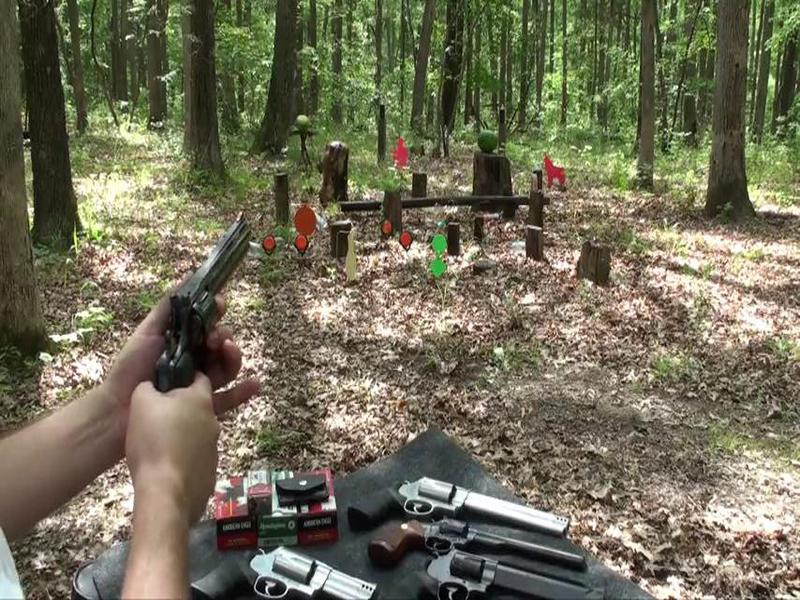Revolver: (137, 209, 259, 423)
